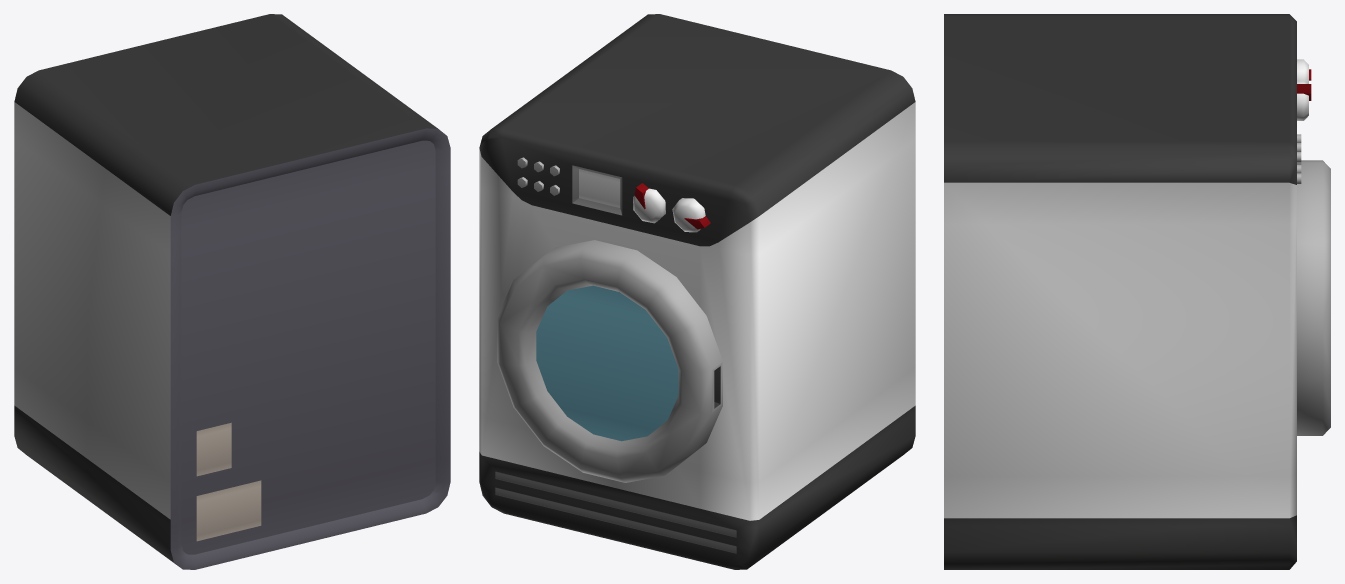
File: x_dryer.fbx
The picture shows the model from 3 angles, left to right: view 1: azimuth 30°, elevation 25°; view 2: azimuth 150°, elevation 25°; view 3: azimuth 270°, elevation 25°; orthographic projection. The views are drawn at different scales.
Parts seen in each view (by area): view 1: x_dryer_baked; view 2: x_dryer_baked; view 3: x_dryer_baked.
Part boxes in pixels (x1,y1,x2,y2): x_dryer_baked: (14, 14, 450, 569); x_dryer_baked: (479, 14, 915, 569); x_dryer_baked: (944, 14, 1330, 569).
Size of the model in its own units: 0.7944 by 1.04 by 0.8604.
